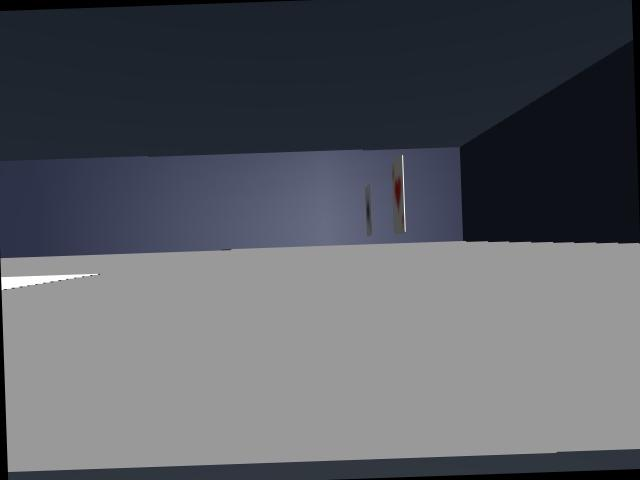diamond: (391, 155, 405, 232)
